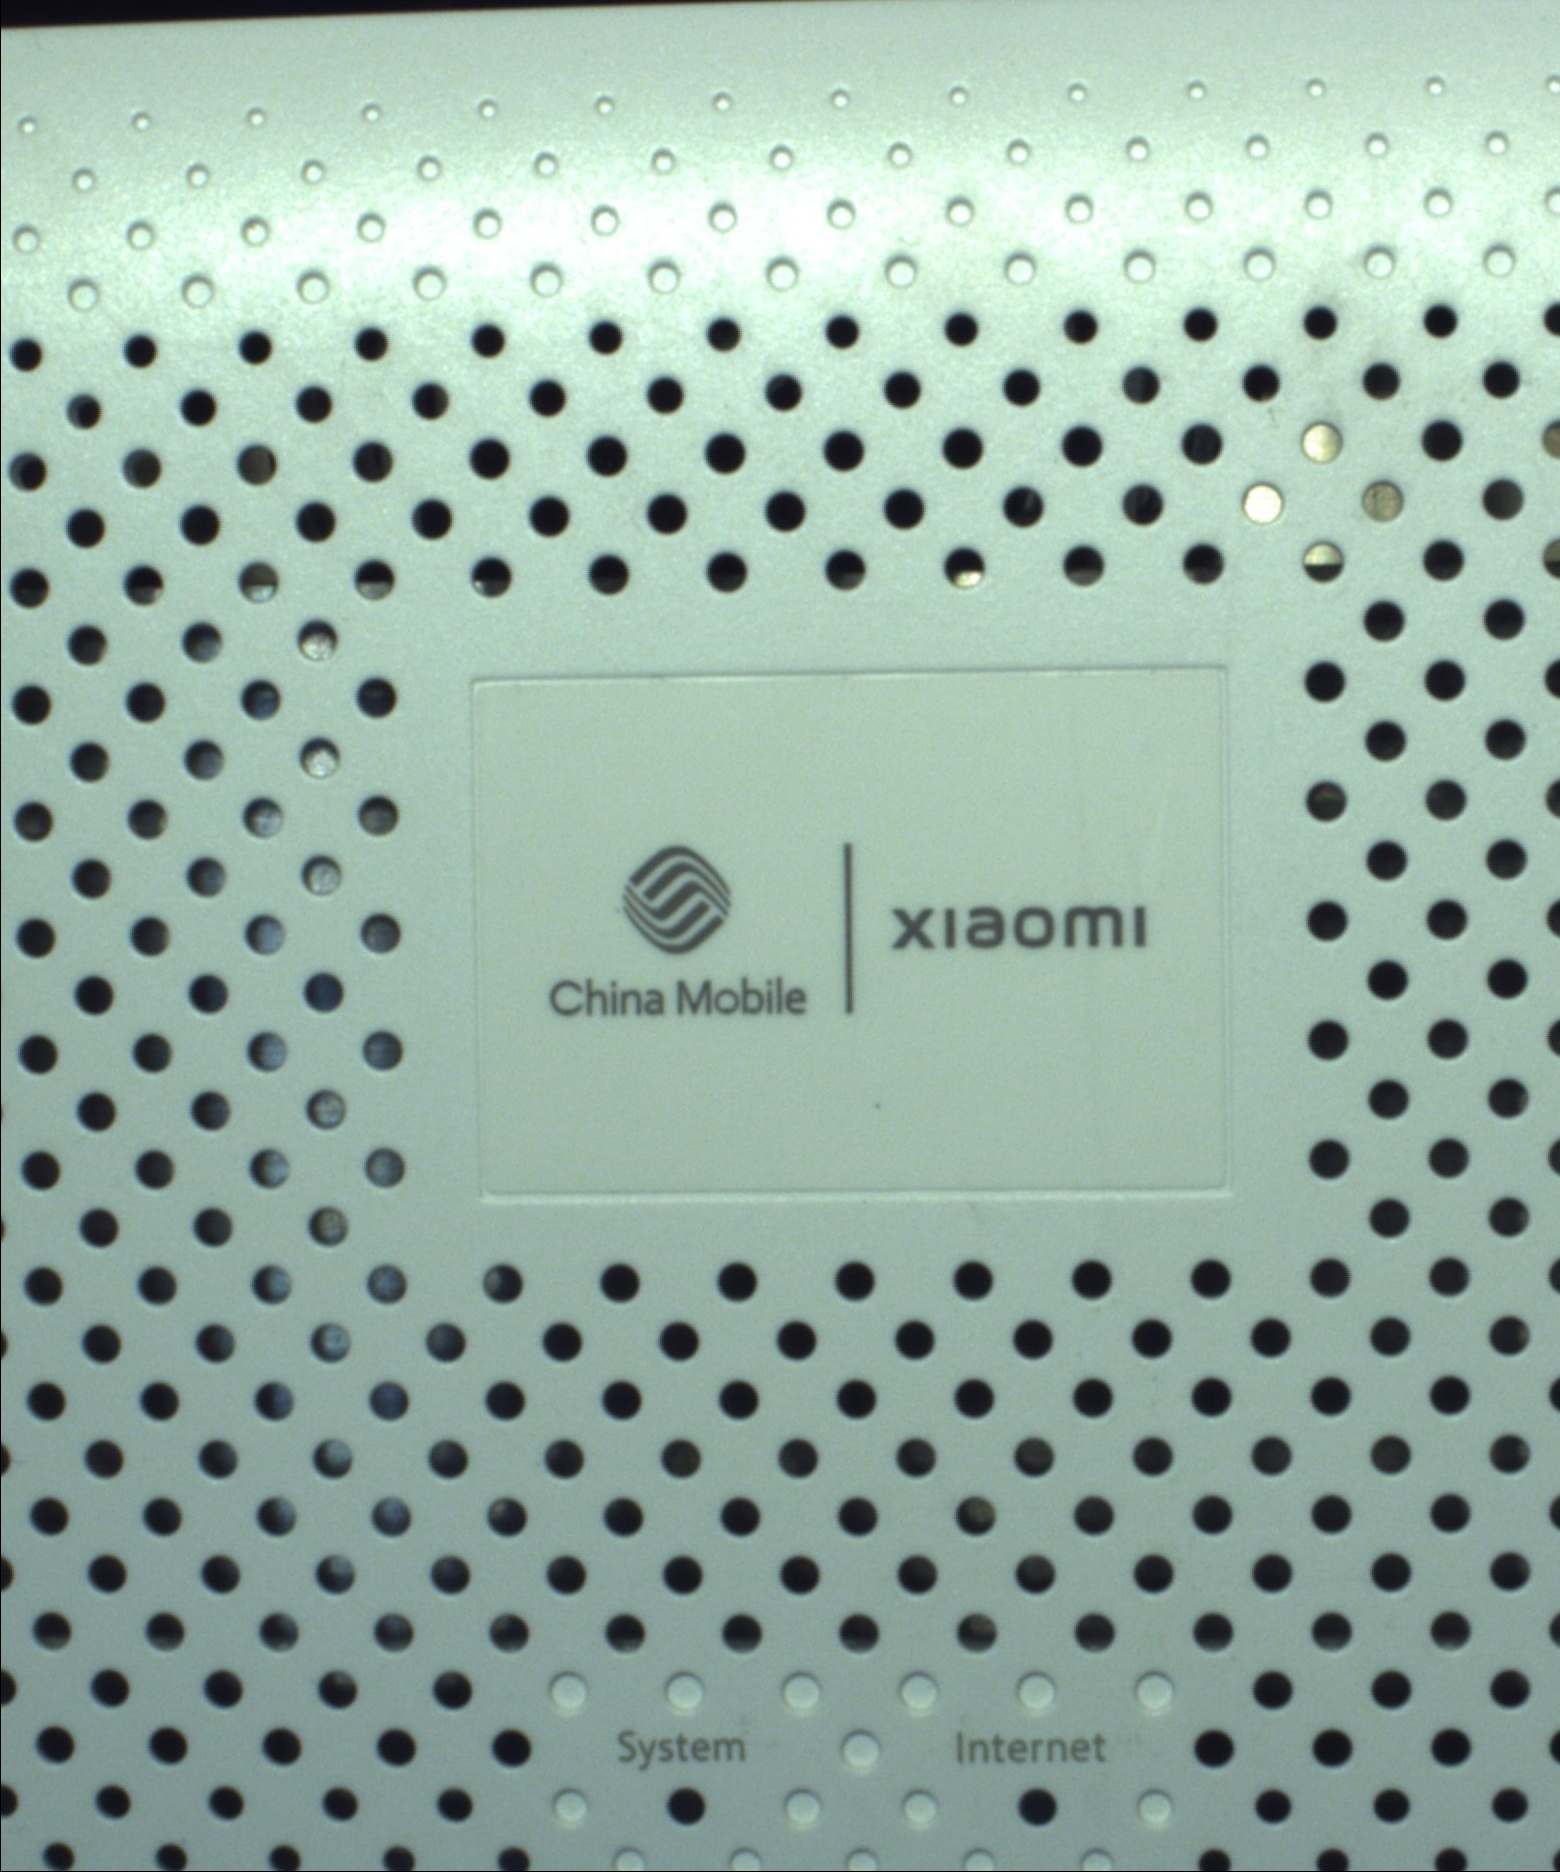MAD_ChinaMobile: (527, 830, 1177, 1046)
